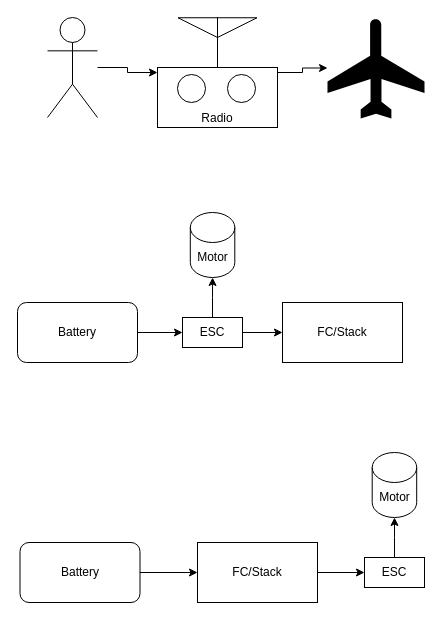
Image size: 442x620. Some labels were removed from this diagram. The centre of each missing label's shape, as x and y in pixels:
"Pilot" belongs at point (72, 67).
"RC Plane" belongs at point (375, 67).
